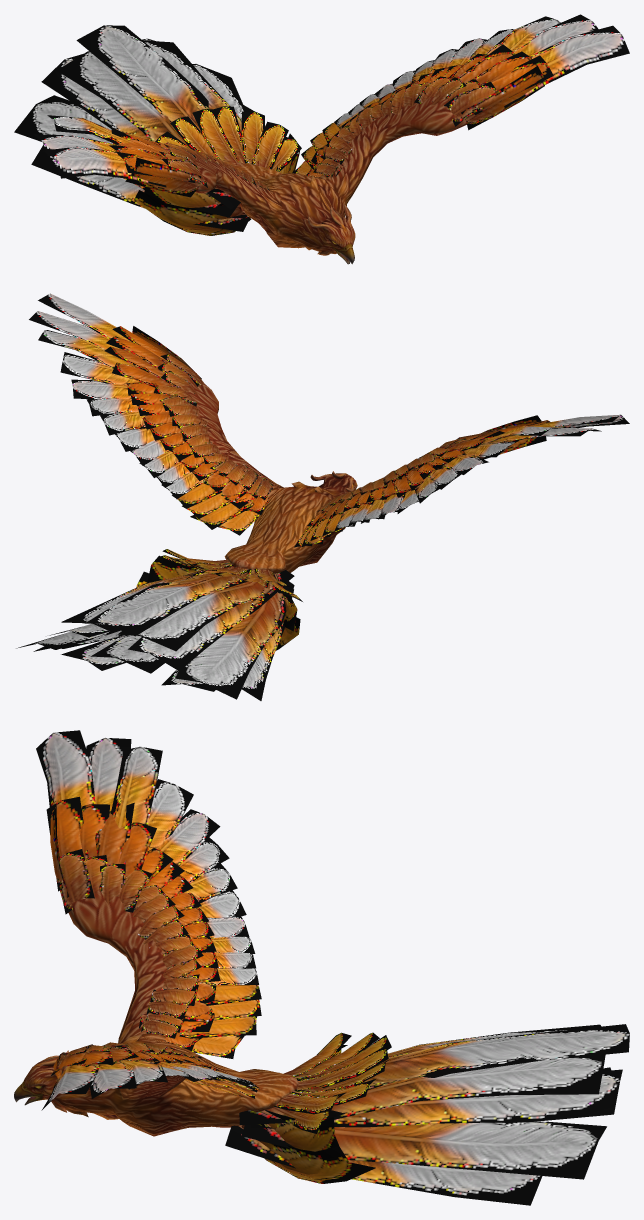
Rendered from 70-phoenix.glb.
3 renders of one model, top to bottom at view 1: azimuth 30°, elevation 25°; view 2: azimuth 150°, elevation 25°; view 3: azimuth 270°, elevation 25°, orthographic. The views are drawn at different scales.
Size of the model in its own units: 8.06 by 2.9 by 6.1.
Materials: 1 (1 with a texture image).
